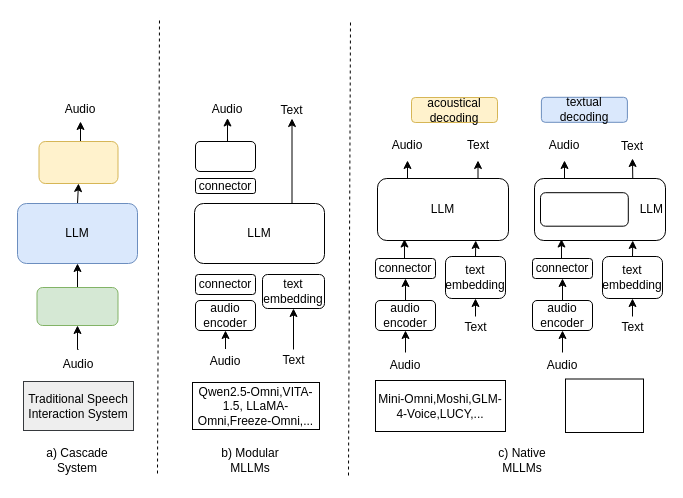
The diagram is 683 pixels wide and 498 high, and some of its shapes have lost their labels. Here are the shapes that lost their labels. From the top down, the centre of each, then its label:
the point at 78,162: TTS
the point at 225,156: audio decoder
the point at 584,209: Audio Experts
the point at 77,306: ASR
the point at 604,405: DeepTalk (ours)
